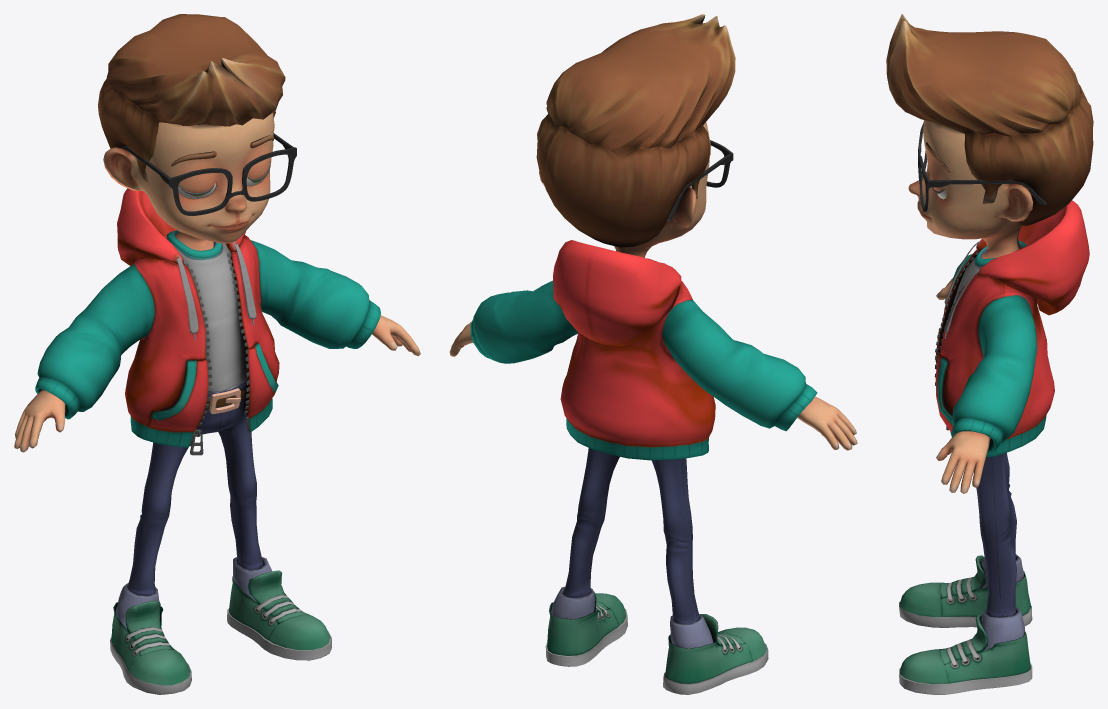
The model's file is Male character v3.fbx.
3 renders of one model, left to right at view 1: azimuth 30°, elevation 25°; view 2: azimuth 150°, elevation 25°; view 3: azimuth 270°, elevation 25°, orthographic.
Visible parts, largest first — view 1: body1, hair, face, shoes, glasses; view 2: body1, hair, shoes, face, glasses; view 3: body1, hair, shoes, face, glasses.
Boxes of the visible parts, box(x1,y1,x2,y2) form: body1: box(14, 188, 420, 629); hair: box(98, 14, 285, 183); face: box(103, 112, 274, 250); shoes: box(110, 570, 331, 694); glasses: box(121, 133, 296, 215); body1: box(449, 240, 857, 648); hair: box(536, 14, 735, 247); shoes: box(545, 591, 768, 694); face: box(539, 122, 710, 257); glasses: box(667, 140, 733, 221); body1: box(934, 200, 1089, 651); hair: box(886, 14, 1093, 225); shoes: box(899, 555, 1032, 694); face: box(908, 120, 1033, 258); glasses: box(918, 123, 1046, 211).
Bounding box in the file's own units: 3.61 × 5.36 × 1.63.
